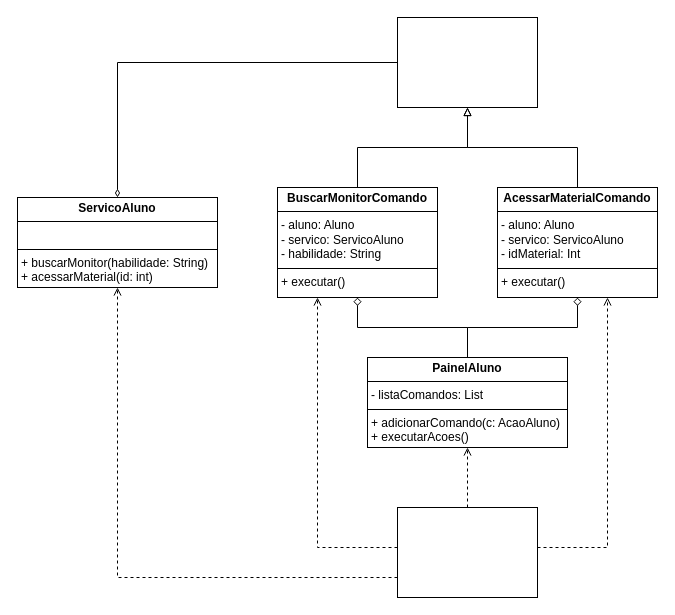
This 675x615 diagram has some shape labels left out. The centre of each missing label's shape, as x and y in pixels:
"<<Interface>> AcaoAluno + executar()" goes at (467,62).
"Aluno - idAluno: Int + acessarMateriais() + buscarMonitor()" goes at (467,552).
